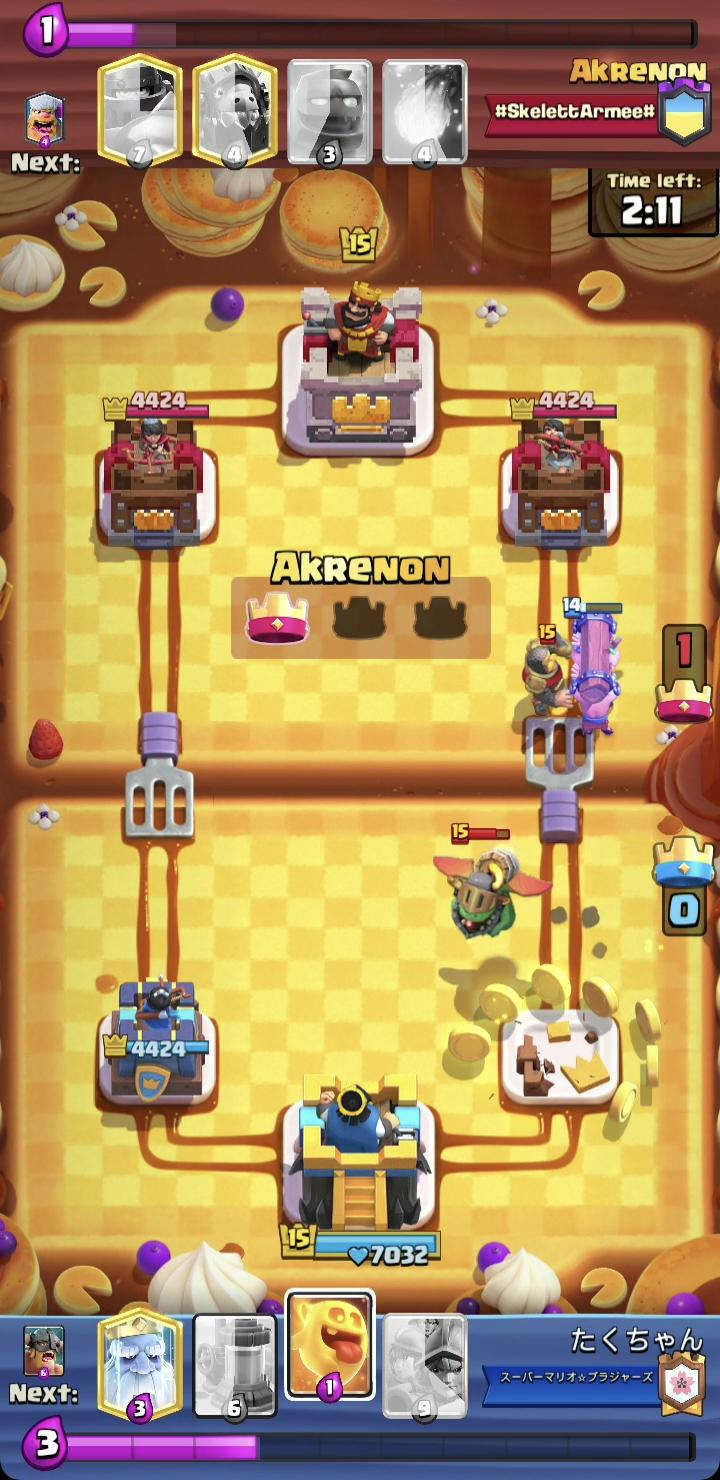ally_battleram: (561, 595, 625, 742)
enemy_infernodragon: (432, 820, 556, 943)
enemy_knight: (510, 621, 591, 720)
